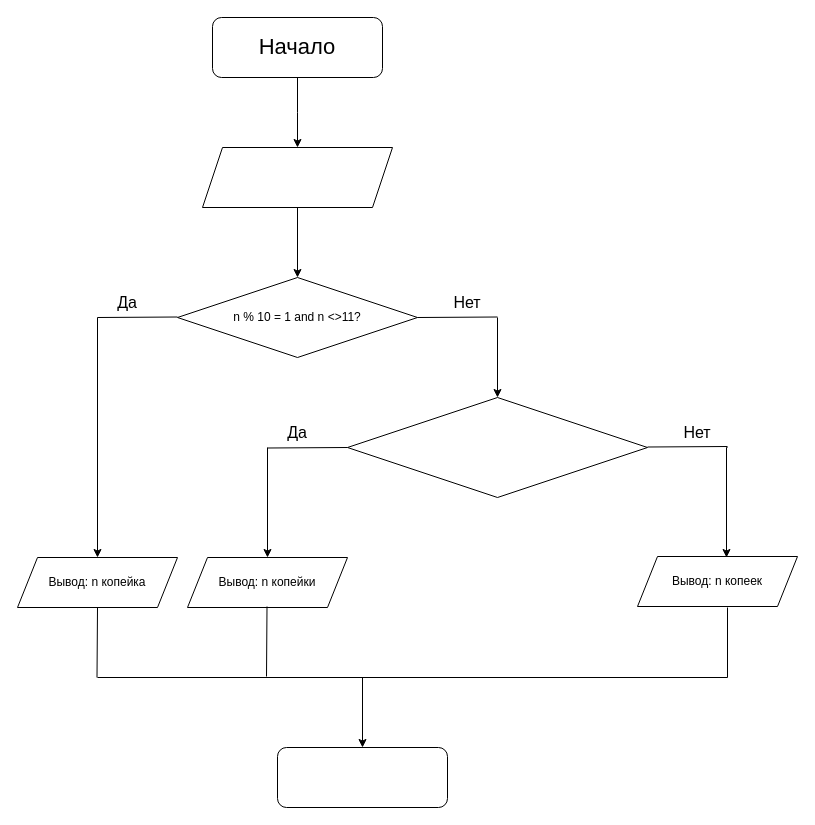
Image size: 815x825. Some labels were removed from this diagram. The shapes that lost their labels are listed below. From the top down, each one's centre as x and y in pixels, then its label:
At point 297,177: "Вводим n".
At point 497,447: "n % 10 = 2, 3, 4 and n <>12, 13, 14?".
At point 362,777: "Конец".
